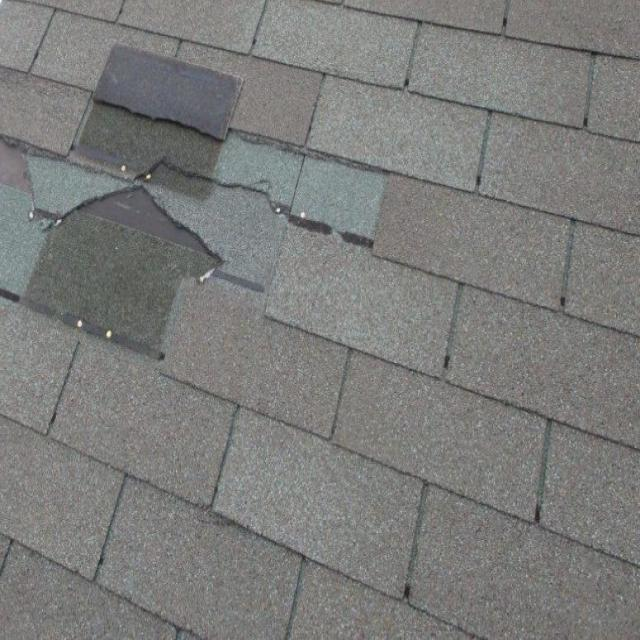damage: (13, 32, 400, 372)
